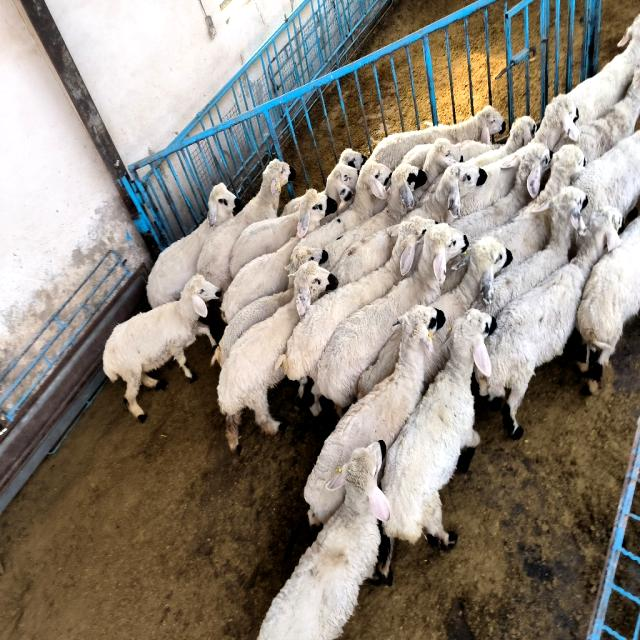sheep: (376, 308, 496, 582), (480, 207, 621, 438), (304, 305, 444, 524), (314, 223, 468, 409), (276, 217, 435, 388), (259, 442, 390, 638), (218, 260, 336, 450), (102, 275, 220, 421), (221, 188, 338, 321), (211, 247, 328, 367), (484, 185, 586, 317), (198, 158, 295, 292), (146, 183, 241, 308), (486, 145, 584, 263), (578, 217, 640, 392), (324, 165, 426, 269), (451, 143, 550, 239), (425, 247, 491, 382), (369, 105, 505, 169), (569, 13, 640, 126), (304, 160, 391, 248), (575, 63, 640, 163), (572, 130, 640, 221), (230, 212, 299, 278), (405, 163, 480, 222), (460, 148, 525, 216), (332, 230, 395, 286), (470, 115, 536, 168), (358, 327, 402, 399), (531, 95, 579, 150), (325, 163, 358, 206)
